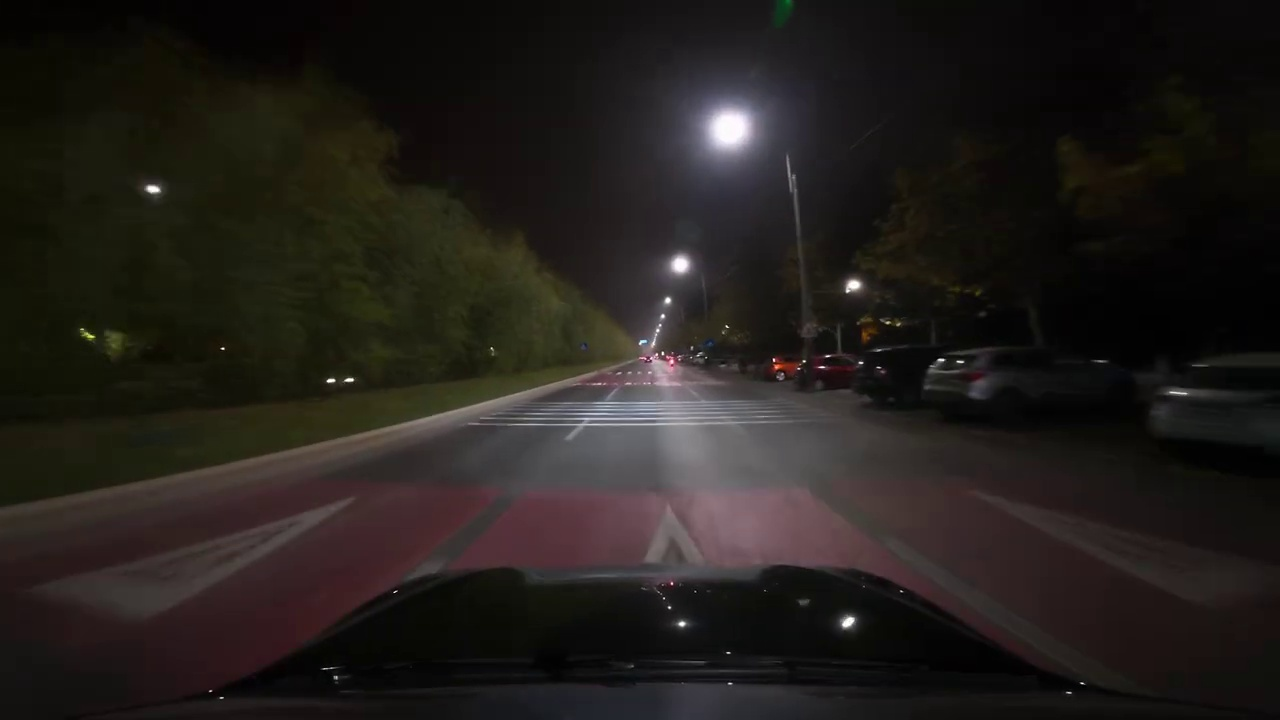acesa: (708, 109, 749, 148), (667, 252, 694, 278), (841, 275, 865, 299)
